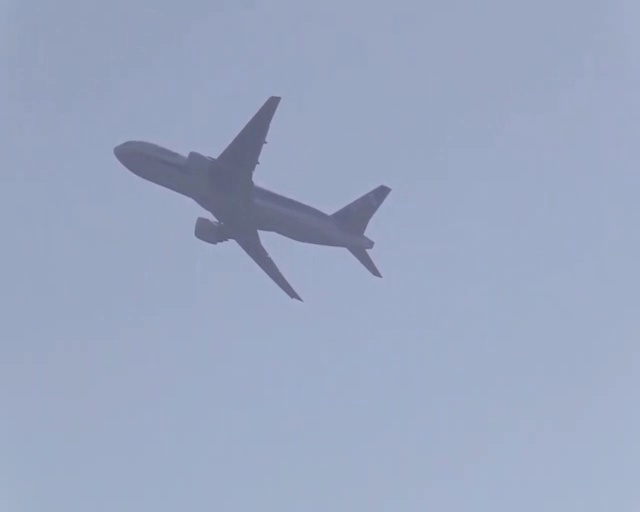AIRPLANE: (114, 93, 393, 305)
